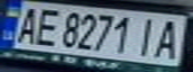1: (109, 12, 136, 55)
2: (75, 10, 100, 52)
7: (93, 11, 115, 53)
8: (57, 9, 81, 50)
A: (148, 16, 187, 61), (9, 3, 45, 44)
E: (30, 6, 63, 47)
I: (130, 15, 163, 58)
